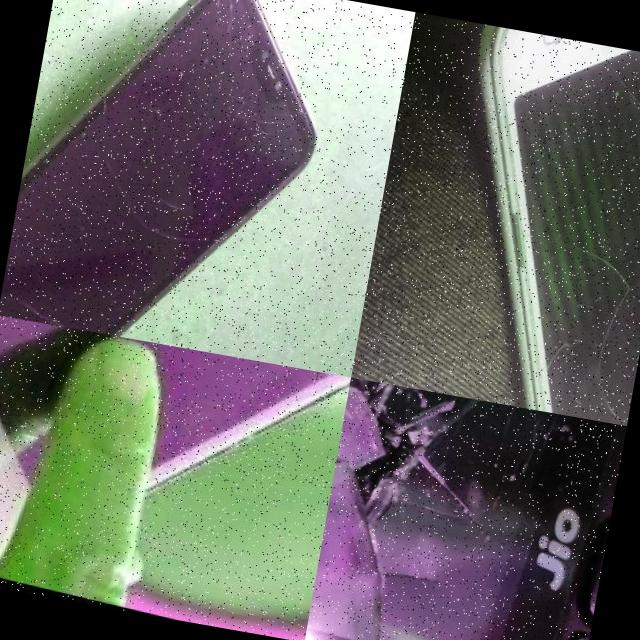screen crack: (303, 377, 590, 640), (495, 37, 640, 425), (168, 0, 281, 128)
